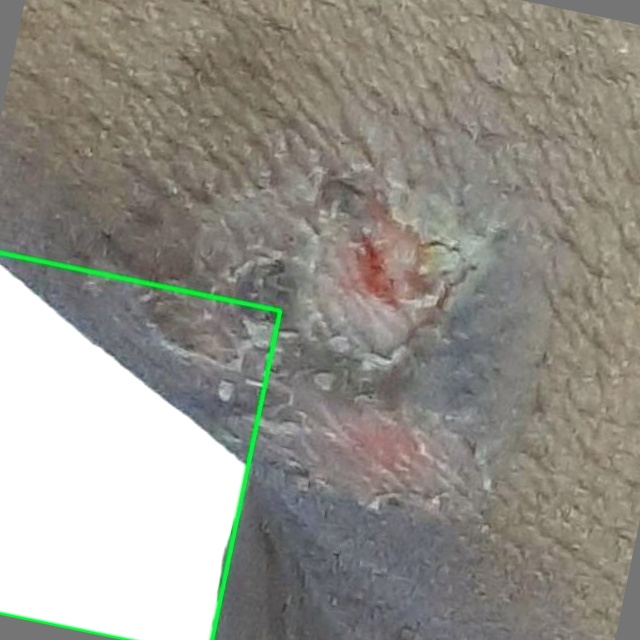Contact Dermatitis: (0, 252, 280, 639)
